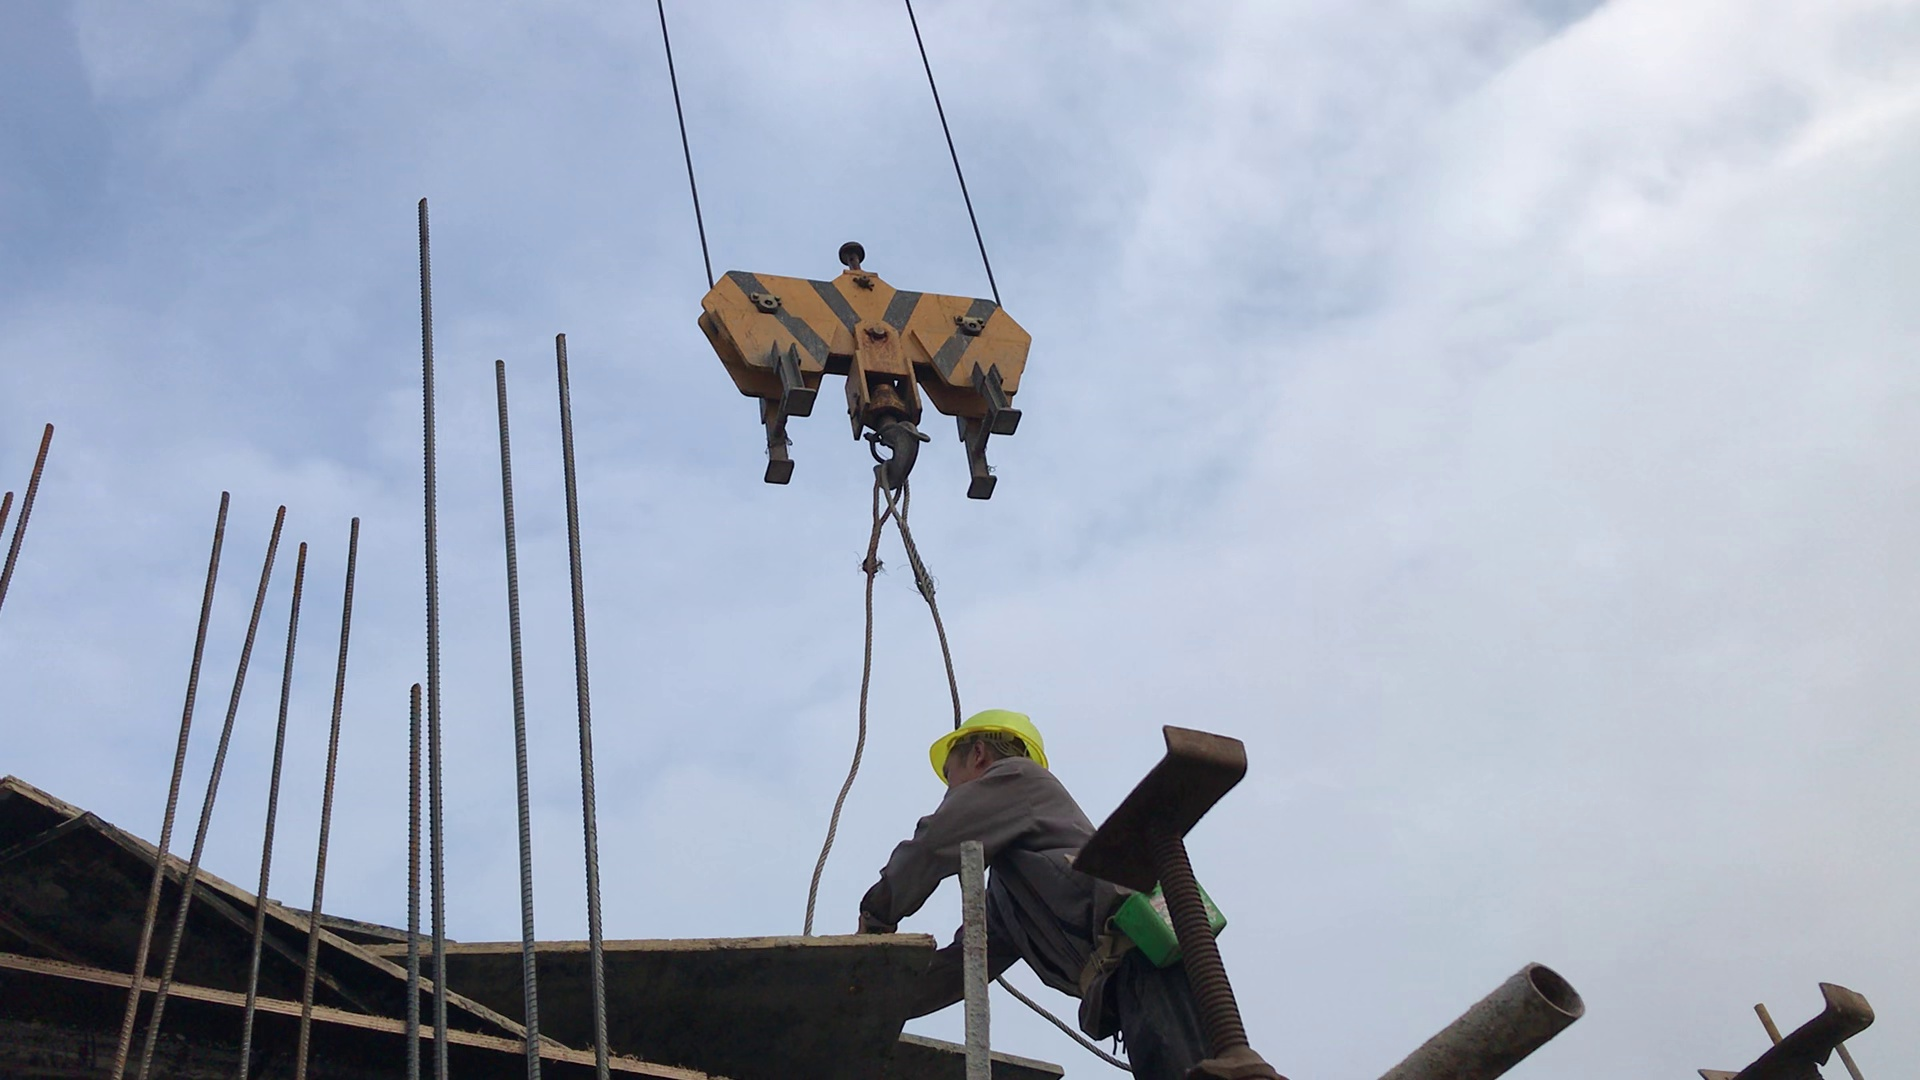helmet: (919, 697, 1053, 772)
hook: (659, 223, 1157, 523)
person: (850, 695, 1249, 1077)
rebar: (6, 334, 628, 1080)
